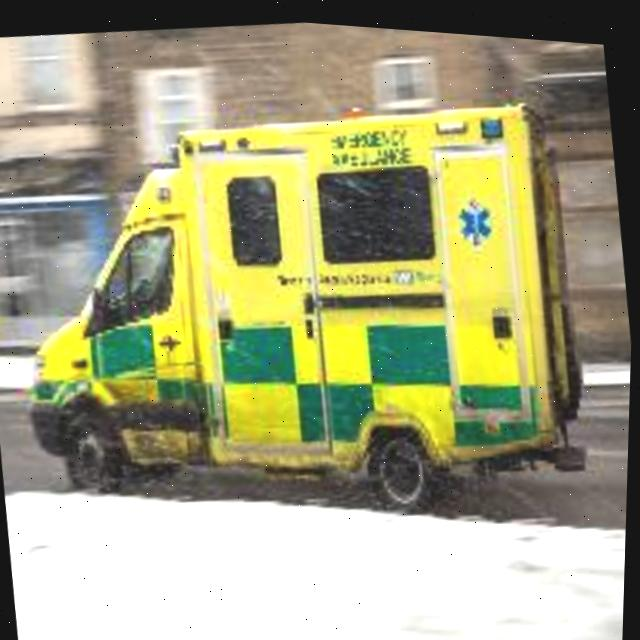emergency: (0, 46, 604, 548)
